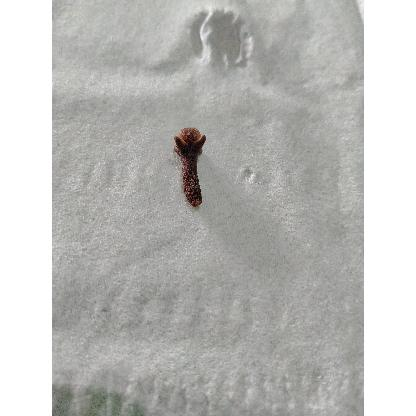baik: (174, 128, 206, 209)
